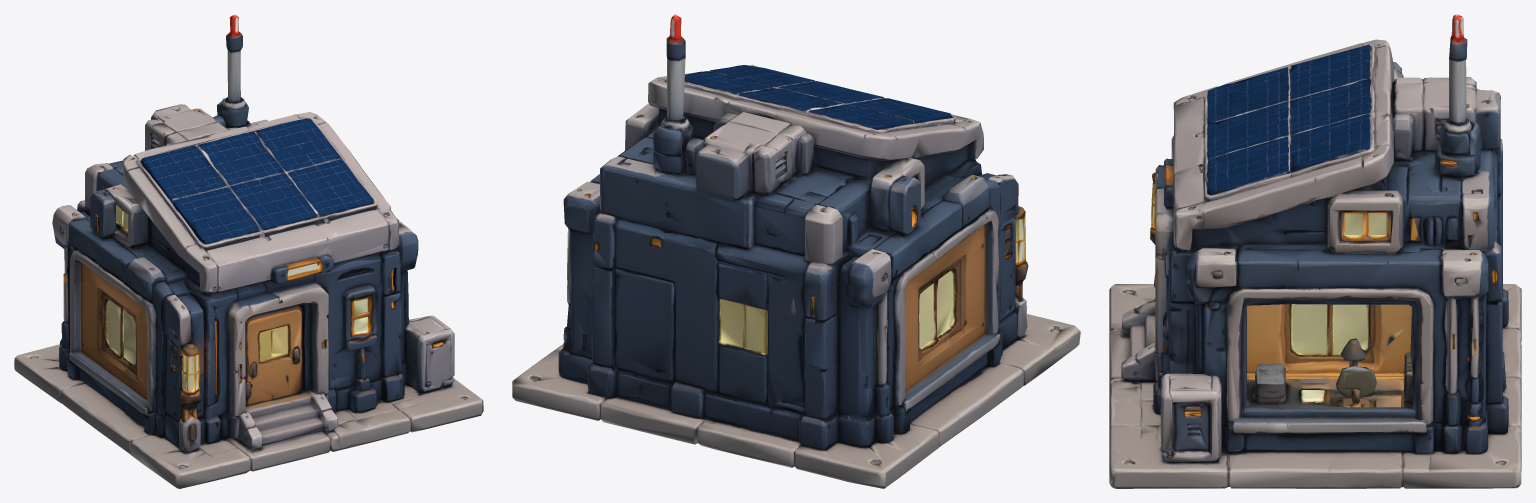
File: writing_station.glb
The picture shows the model from 3 angles, left to right: view 1: azimuth 30°, elevation 25°; view 2: azimuth 150°, elevation 25°; view 3: azimuth 270°, elevation 25°; orthographic projection. The views are drawn at different scales.
Size of the model in its own units: 5.1 by 5.16 by 4.72.
1 material, 1 textured.
